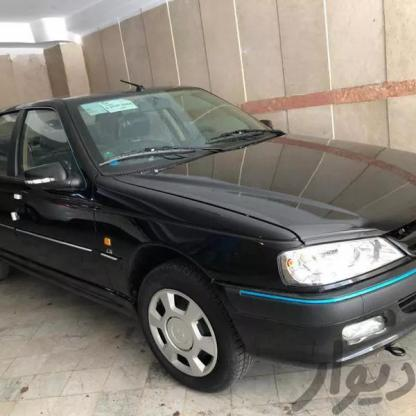Car: (0, 73, 416, 416)
